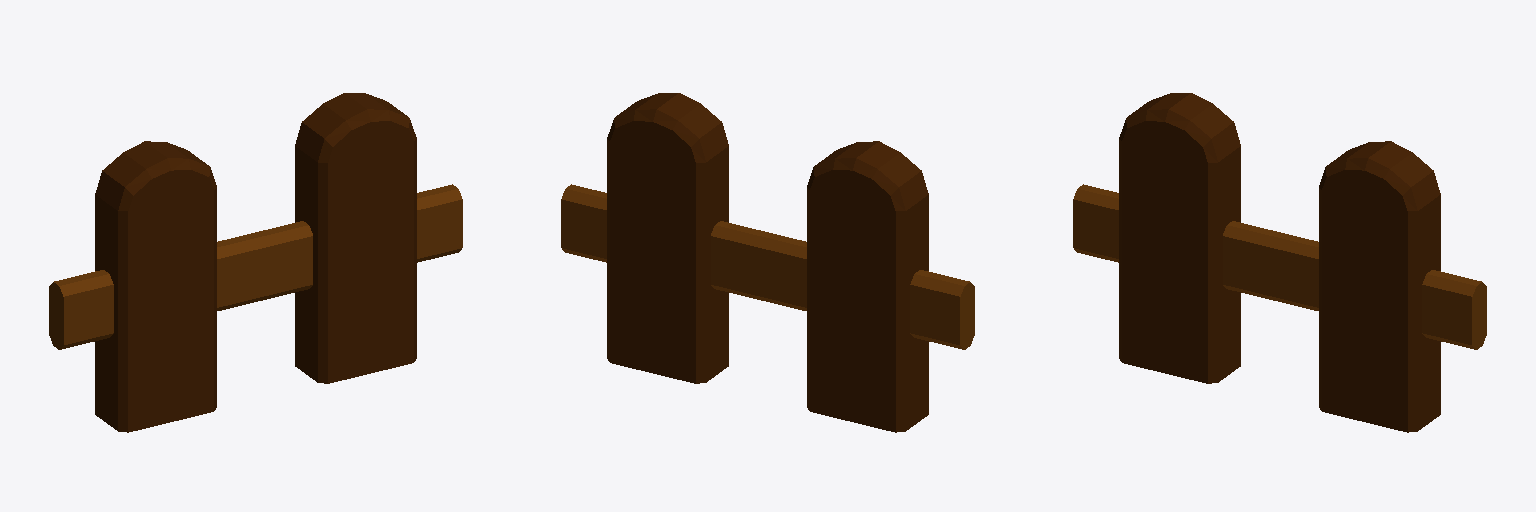
Rendered from Fence_Middle_Cube.obj.
3 renders of one model, left to right at view 1: azimuth 30°, elevation 25°; view 2: azimuth 150°, elevation 25°; view 3: azimuth 330°, elevation 25°, orthographic.
Visible parts, largest first — view 1: Fence_Middle_Cube; view 2: Fence_Middle_Cube; view 3: Fence_Middle_Cube.
Part boxes in pixels (x1,y1,x2,y2): Fence_Middle_Cube: (49, 93, 462, 432); Fence_Middle_Cube: (561, 93, 974, 432); Fence_Middle_Cube: (1073, 93, 1486, 432).
Size of the model in its own units: 2 by 1.25 by 0.2644.